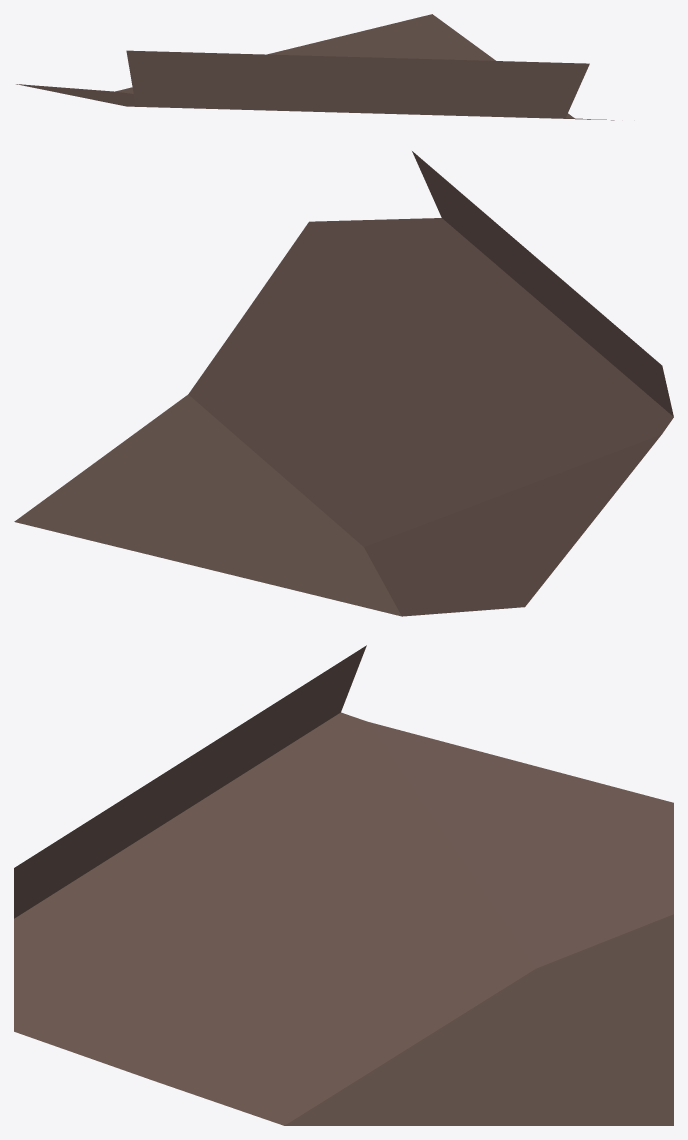
Rendered from cell_034.obj.
3 views of the same model, one above another, from view 1: azimuth 30°, elevation 25°; view 2: azimuth 150°, elevation 25°; view 3: azimuth 270°, elevation 25° (orthographic). The views are drawn at different scales.
Size of the model in its own units: 1 by 0.3375 by 1.
